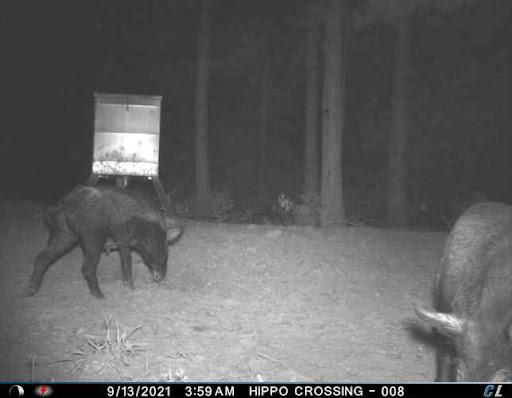Hog: (28, 191, 185, 305), (422, 191, 511, 383)
